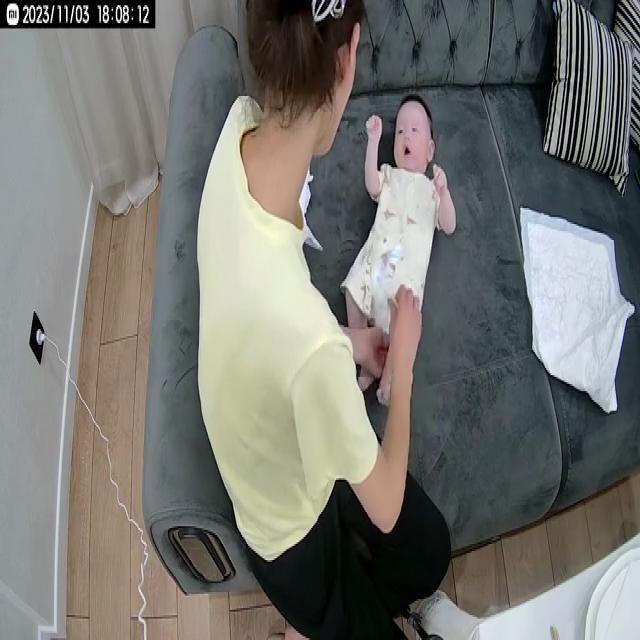baby: (342, 93, 459, 404)
